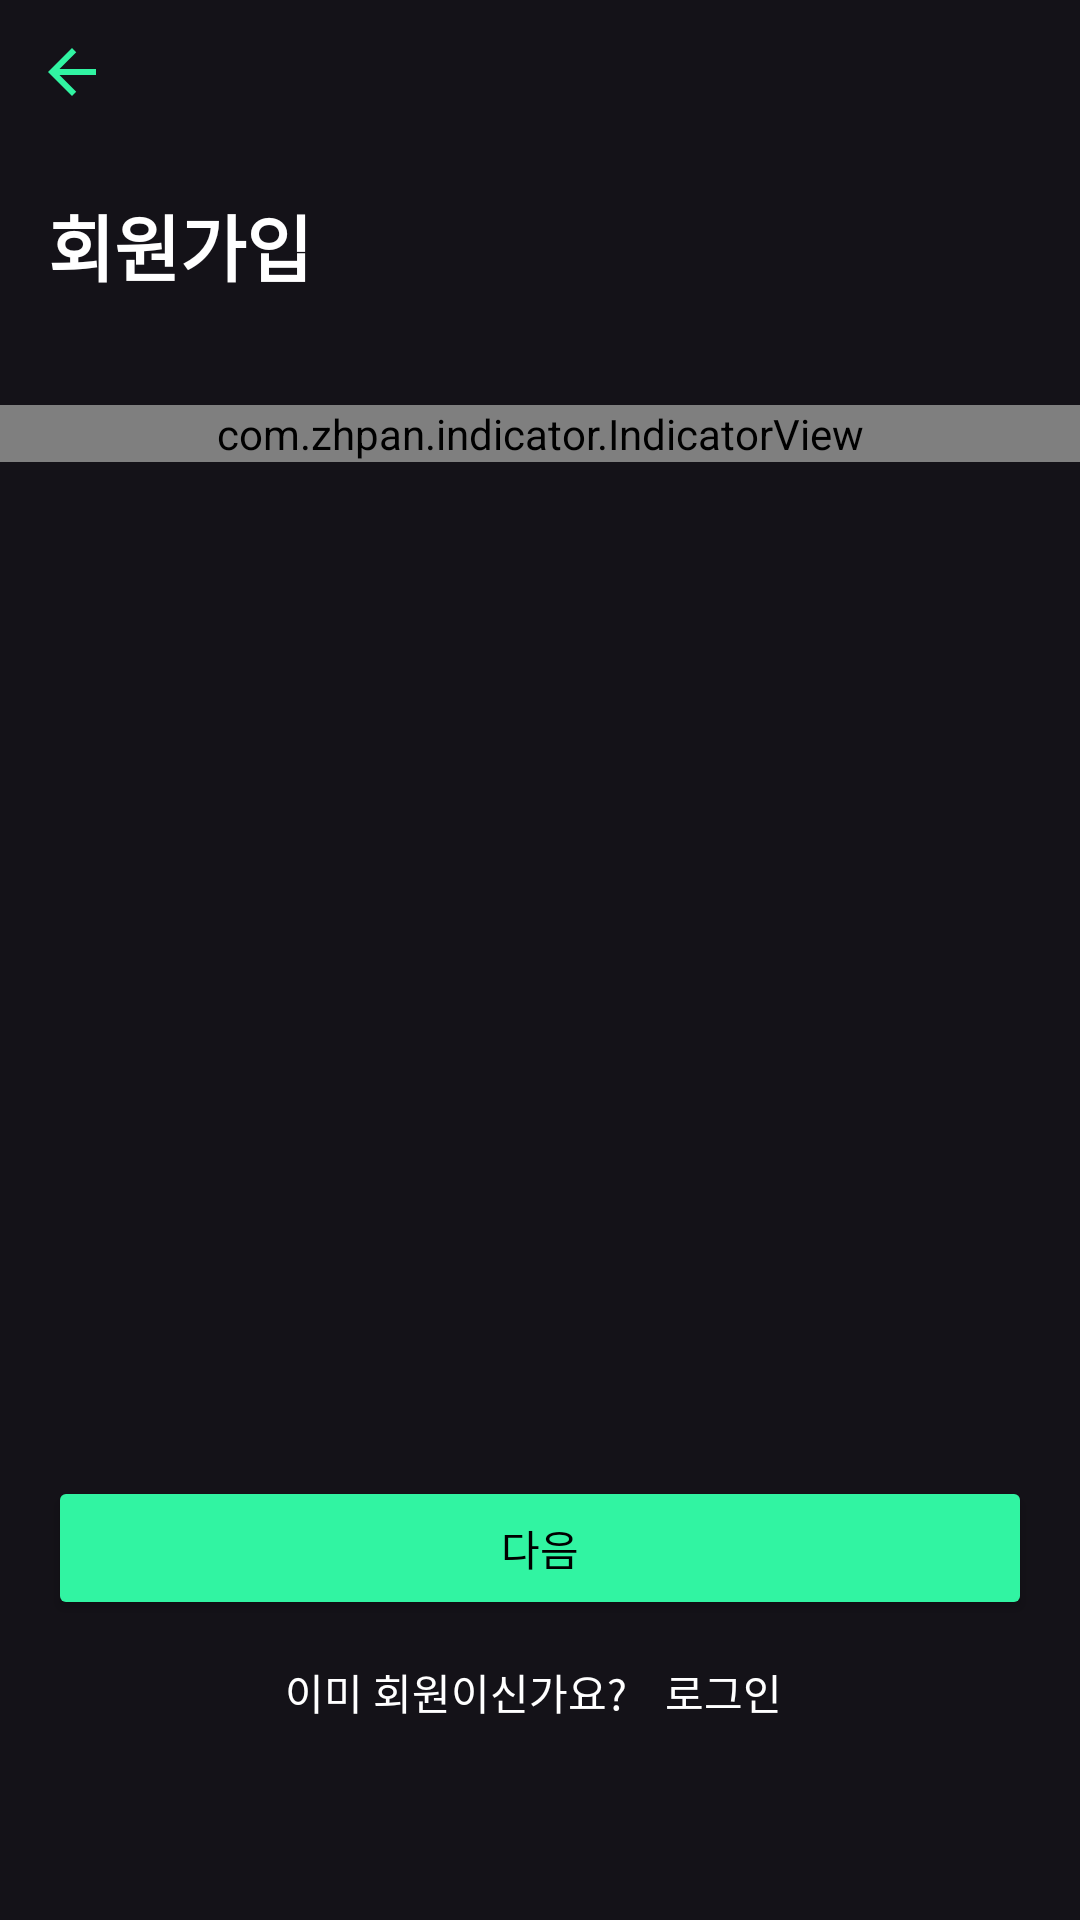

Locate icon controls on the screen. Image size 1080x1920, boxes as region(x1, y1, x2, y2).
arrow back: region(48, 48, 96, 96)
